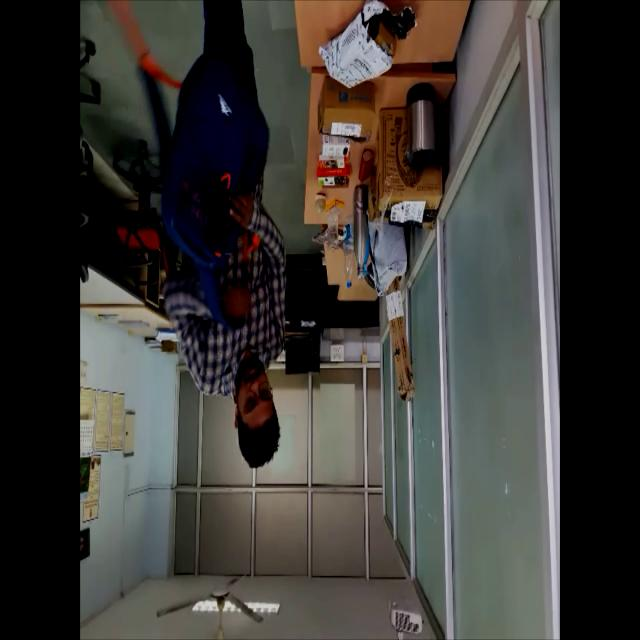shoplifting: (160, 0, 292, 471)
